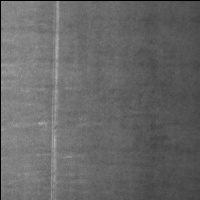scratches: (48, 1, 62, 200)
